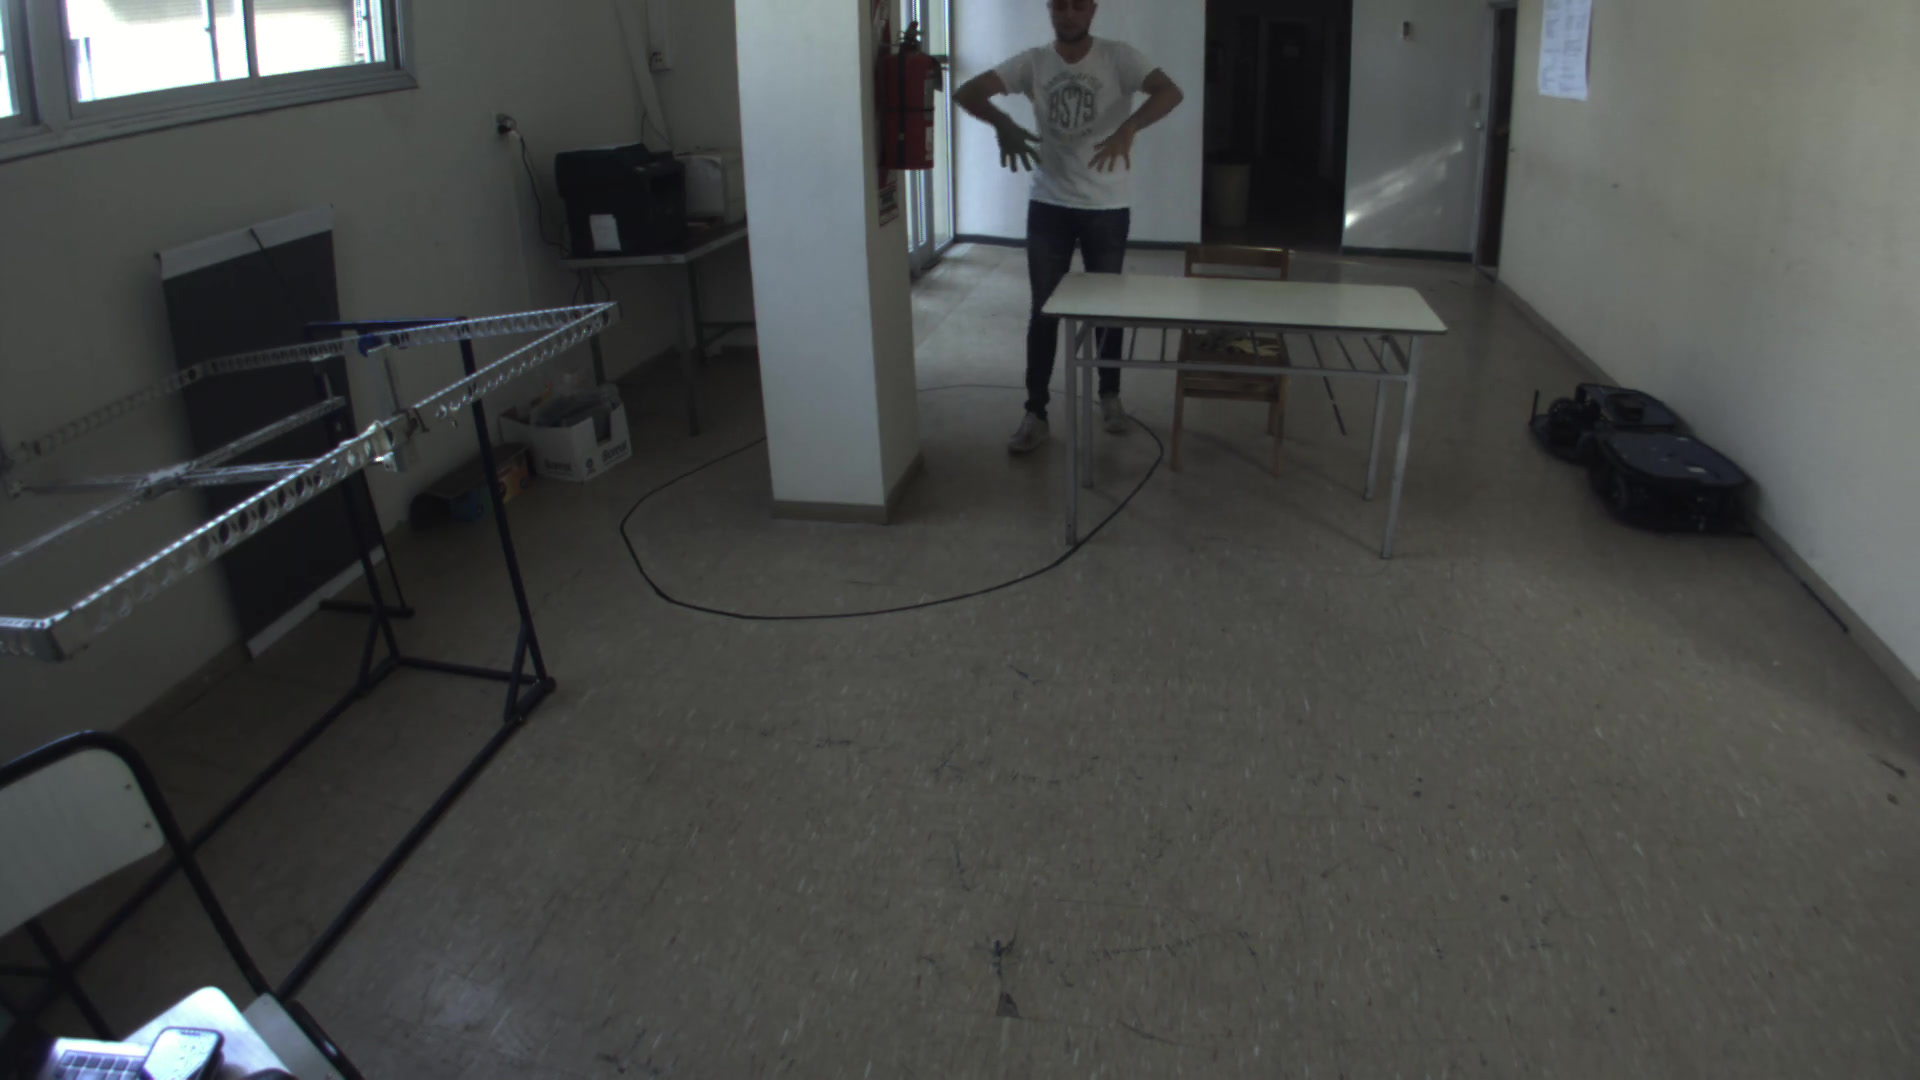hand: (984, 111, 1052, 179), (1083, 117, 1145, 177)
